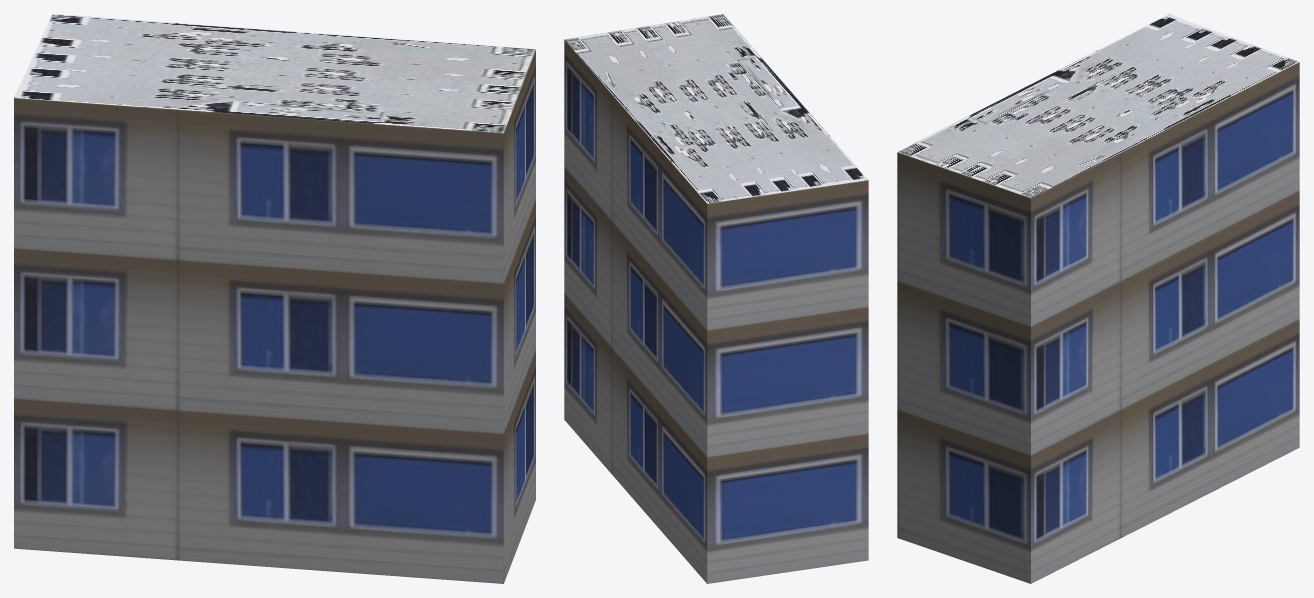
File: ResTex__2982.fbx
The picture shows the model from 3 angles, left to right: view 1: azimuth 30°, elevation 25°; view 2: azimuth 150°, elevation 25°; view 3: azimuth 270°, elevation 25°; orthographic projection. The views are drawn at different scales.
Visible parts, largest first — view 1: CityEngineMaterial_23_m, CityEngineMaterial_4_m; view 2: CityEngineMaterial_23_m, CityEngineMaterial_4_m; view 3: CityEngineMaterial_23_m, CityEngineMaterial_4_m.
Part boxes in pixels (left/top/right/bottom): CityEngineMaterial_23_m: left=14, top=50, right=535, bottom=583; CityEngineMaterial_4_m: left=14, top=14, right=535, bottom=133; CityEngineMaterial_23_m: left=564, top=40, right=868, bottom=583; CityEngineMaterial_4_m: left=564, top=14, right=868, bottom=203; CityEngineMaterial_23_m: left=897, top=62, right=1299, bottom=583; CityEngineMaterial_4_m: left=898, top=14, right=1298, bottom=198.
Bounding box in the file's own units: 9.22 × 9 × 8.51.
Materials: 2 (2 with a texture image).
